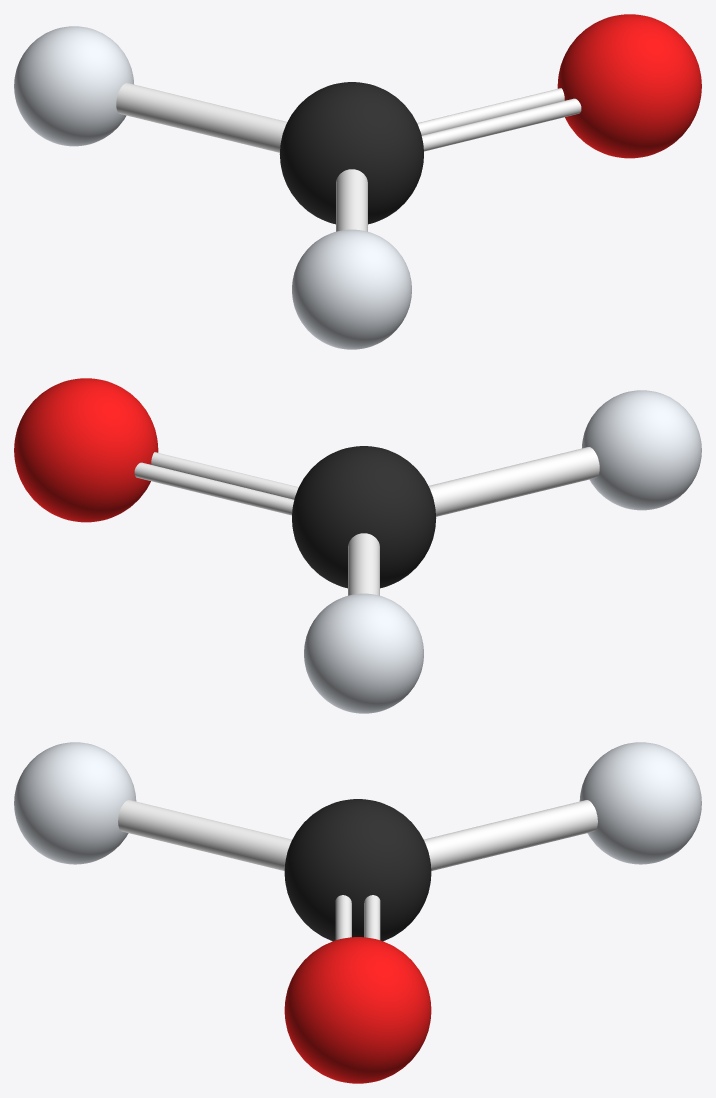
The model's file is formaldehyde.fbx.
3 renders of one model, top to bottom at view 1: azimuth 30°, elevation 25°; view 2: azimuth 150°, elevation 25°; view 3: azimuth 270°, elevation 25°, orthographic.
Parts seen in each view (by area): view 1: aldehydes; view 2: aldehydes; view 3: aldehydes.
Boxes of the visible parts, x1,y1,x2,y2 form: aldehydes: (14,14,701,349); aldehydes: (14,378,701,713); aldehydes: (14,742,701,1083).
Size of the model in its own units: 153 by 36 by 169.
